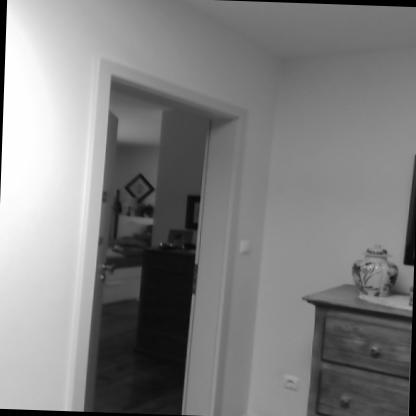semi: (62, 67, 264, 410)
